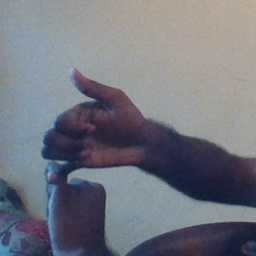S: (32, 65, 146, 237)
